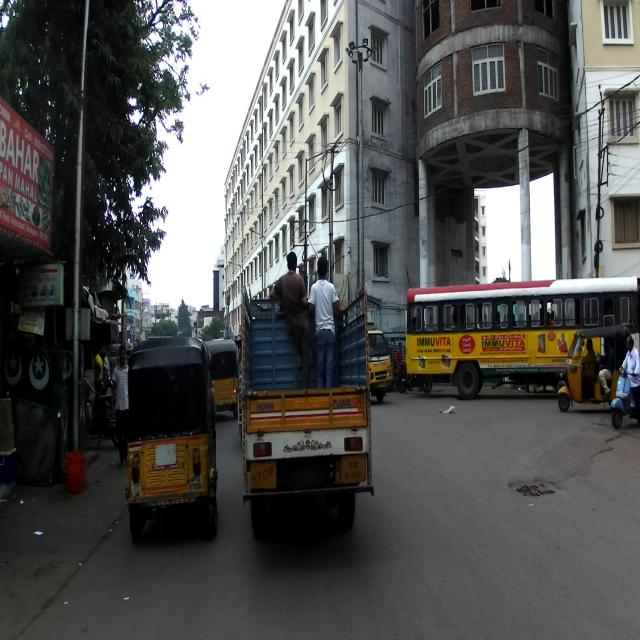autorickshaw: (124, 334, 219, 544), (557, 324, 631, 413)
bus: (406, 277, 639, 401)
scooter: (79, 375, 121, 449), (610, 361, 639, 430)
truck: (238, 284, 375, 536), (367, 324, 393, 405)
